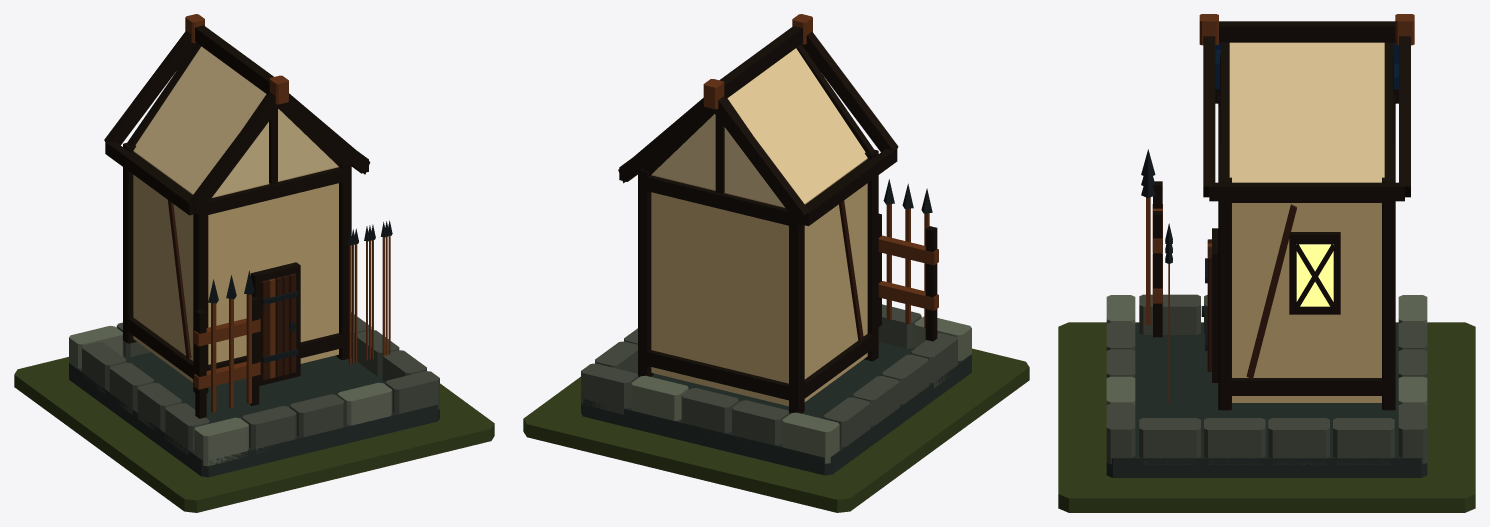
File: fletcher_t3.glb
3 renders of one model, left to right at view 1: azimuth 30°, elevation 25°; view 2: azimuth 150°, elevation 25°; view 3: azimuth 270°, elevation 25°, orthographic. The views are drawn at different scales.
Visible parts, largest first — view 1: MMR | fletcher | T03 Architecture.001, MMR | fletcher | Tier 03 Ground.001; view 2: MMR | fletcher | T03 Architecture.001, MMR | fletcher | Tier 03 Ground.001; view 3: MMR | fletcher | T03 Architecture.001, MMR | fletcher | Tier 03 Ground.001.
Boxes of the visible parts, x1,y1,x2,y2 form: MMR | fletcher | T03 Architecture.001: [69, 14, 439, 477]; MMR | fletcher | Tier 03 Ground.001: [14, 357, 494, 512]; MMR | fletcher | T03 Architecture.001: [581, 14, 971, 475]; MMR | fletcher | Tier 03 Ground.001: [523, 348, 1029, 512]; MMR | fletcher | T03 Architecture.001: [1106, 14, 1427, 477]; MMR | fletcher | Tier 03 Ground.001: [1058, 322, 1475, 512].
Size of the model in its own units: 1.3 by 1.4 by 1.3.
2 materials, 1 textured.
